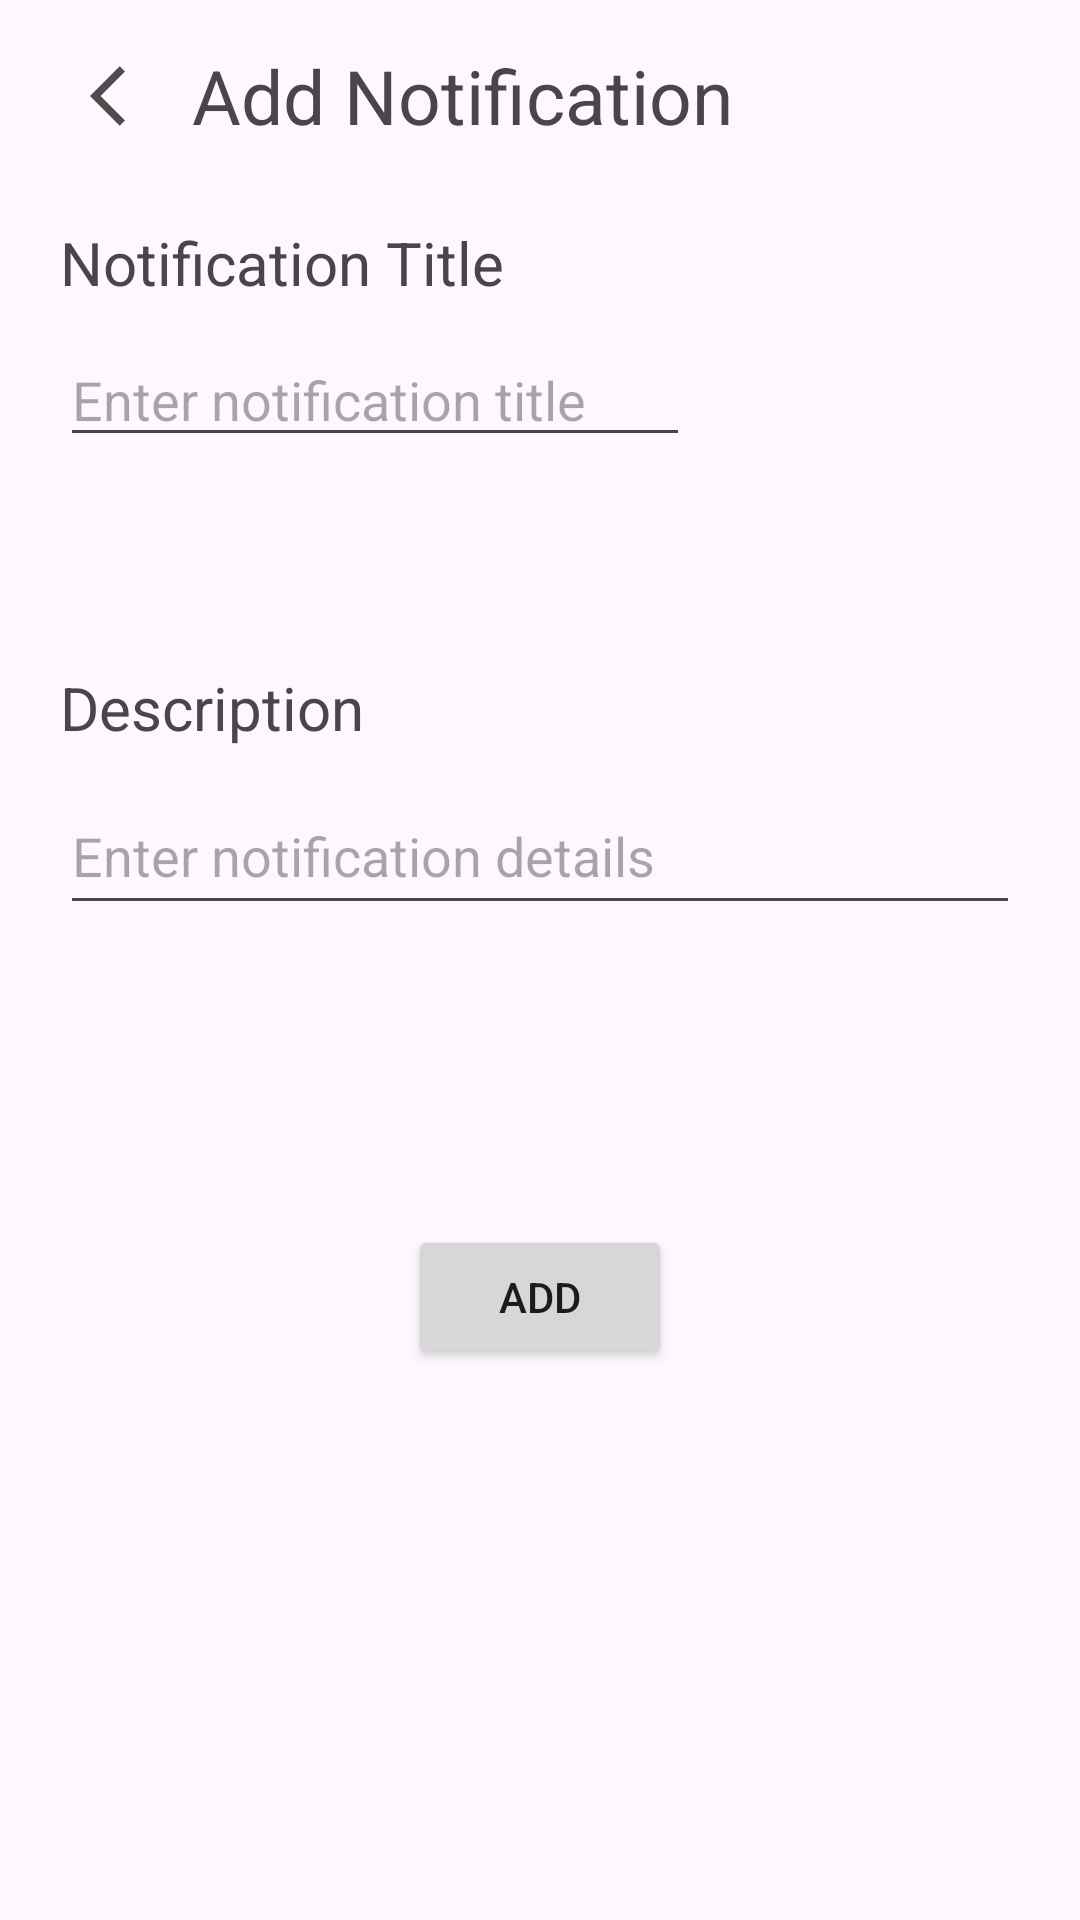

Named icons in this screenshot (1080px x 1920px) and their centers, point (x, y):
arrow back: point (107, 96)
